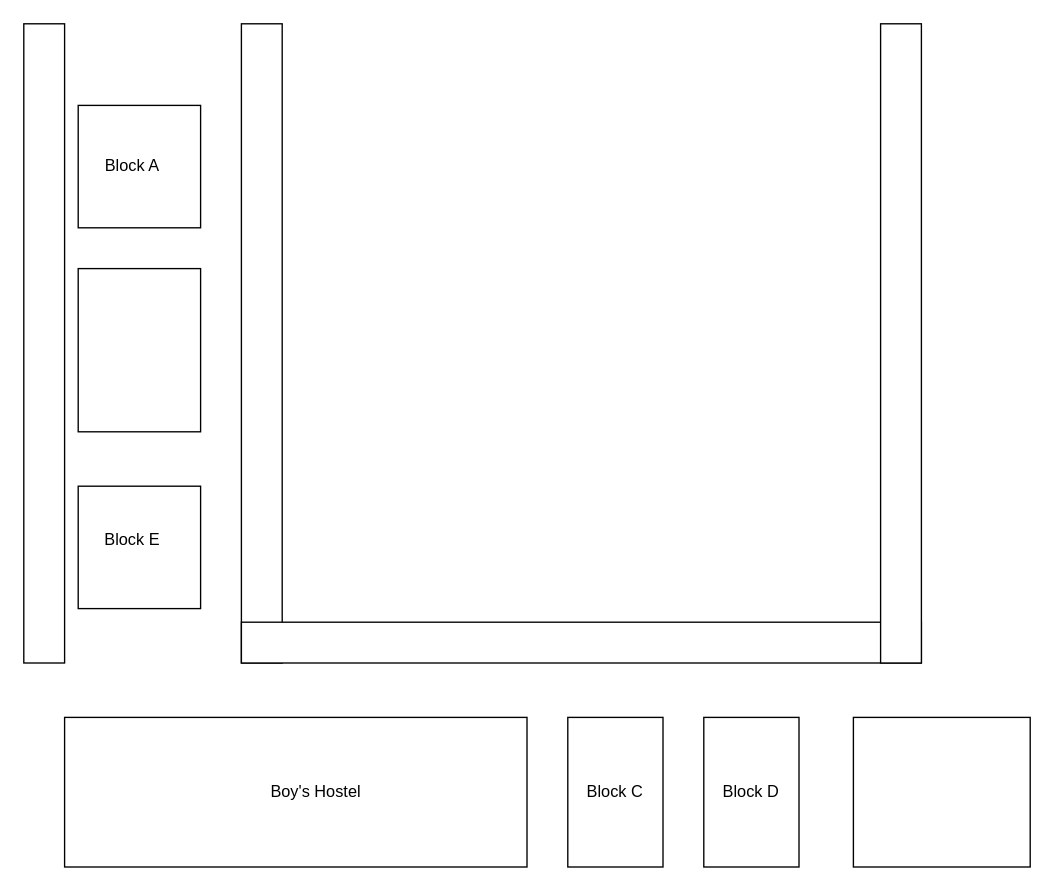
The diagram is 1054 pixels wide and 891 high, and some of its shapes have lost their labels. Each missing label, with the centre of its shape:
Block B: the point at 139,349
Girl's Hostel: the point at 941,791
